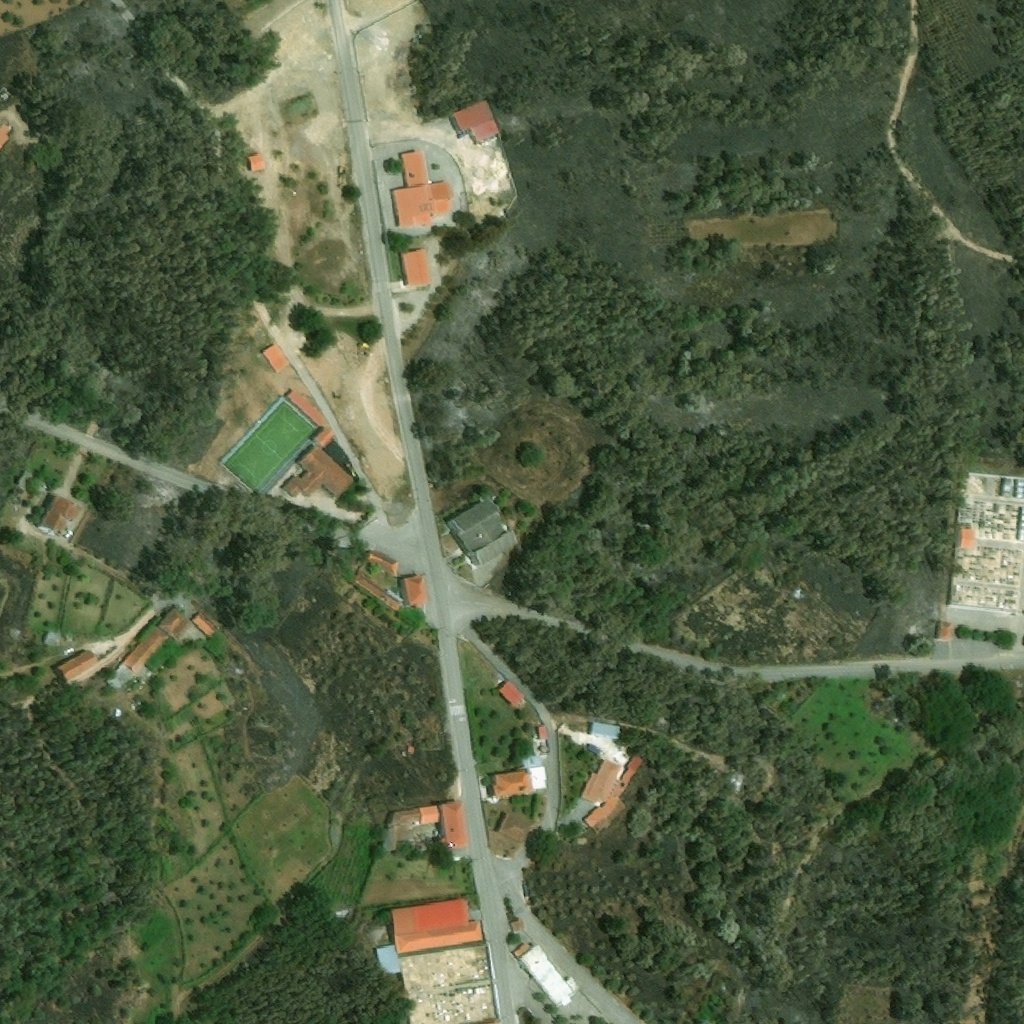0 no-damage: (376, 943, 496, 1023), (391, 897, 482, 954), (445, 498, 518, 567), (392, 151, 454, 228), (511, 942, 576, 1007), (105, 626, 169, 692), (579, 759, 636, 828), (281, 445, 355, 497), (449, 97, 505, 145), (37, 495, 82, 542), (354, 574, 404, 610), (491, 766, 546, 797), (285, 388, 328, 426), (382, 808, 419, 851), (437, 801, 468, 849), (55, 650, 97, 683), (400, 249, 431, 289), (156, 608, 192, 641), (495, 813, 532, 844), (398, 575, 429, 605), (366, 550, 398, 577), (617, 739, 646, 767), (191, 612, 218, 637), (591, 722, 620, 741), (12, 473, 34, 498), (312, 426, 335, 448), (418, 805, 439, 825), (42, 630, 60, 648), (0, 123, 10, 150), (960, 529, 974, 548), (1000, 479, 1011, 497), (509, 919, 523, 933), (537, 725, 547, 740), (407, 746, 414, 754)
4 un-classified: (1016, 479, 1023, 498), (729, 770, 737, 784), (698, 767, 705, 780)
